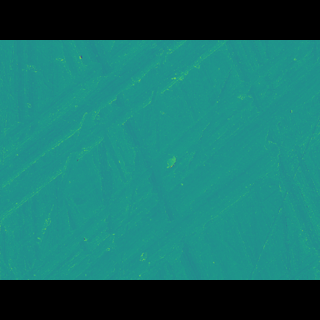Loch: (16, 78, 308, 236)
